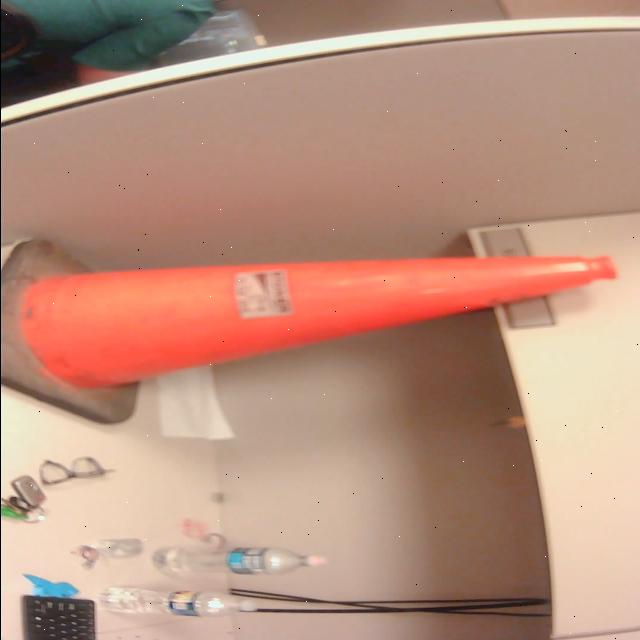traffic cone: (1, 235, 624, 429)
